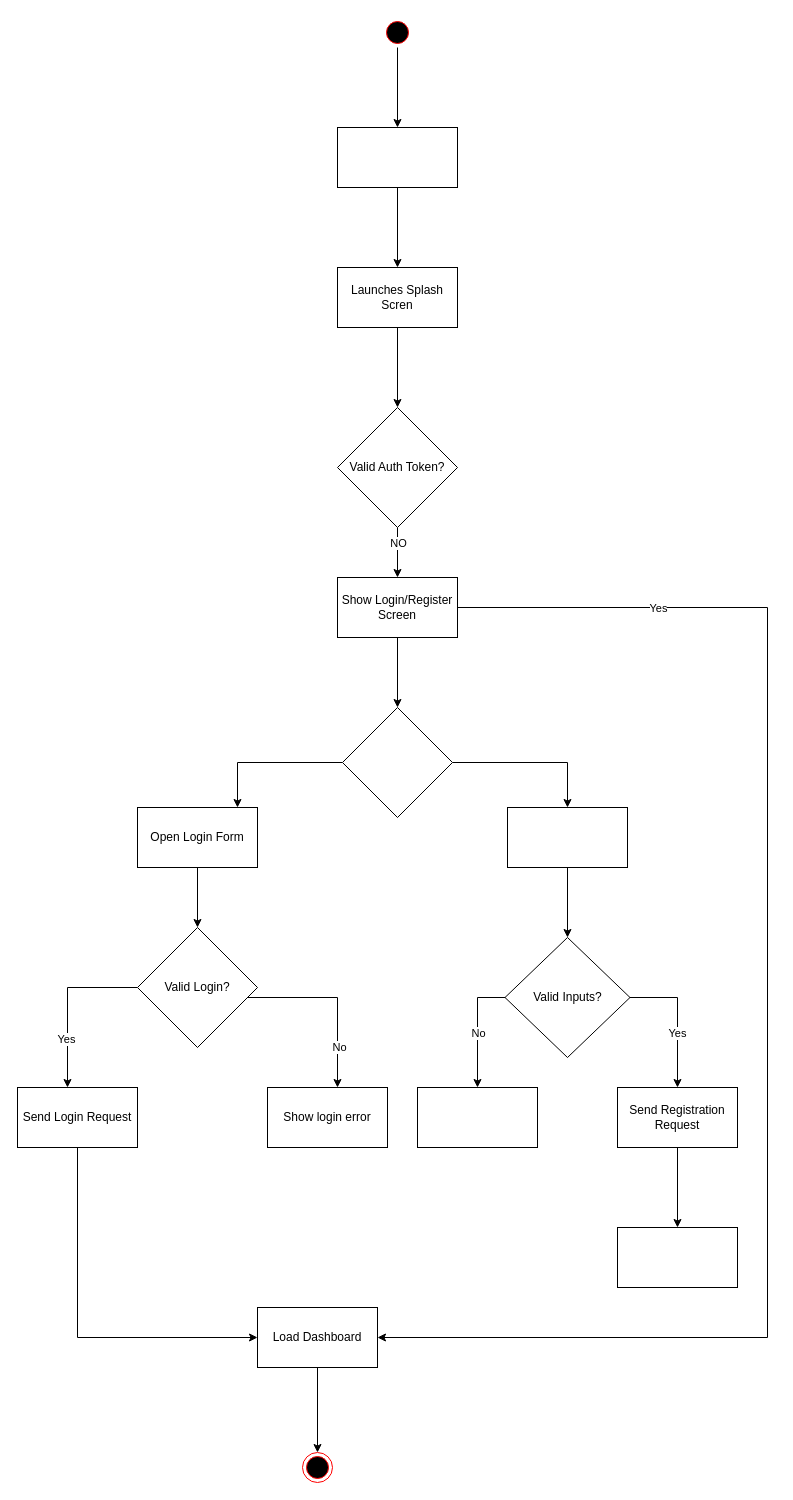
The diagram is 793 pixels wide and 1500 high, and some of its shapes have lost their labels. The shapes that lost their labels are listed below. From the top down, each one's centre as x and y in pixels, then its label:
[397,157]: User opens app
[397,762]: Choose Action
[567,837]: Open Register Form
[477,1117]: Show Error
[677,1257]: Show success and email verification prompt
